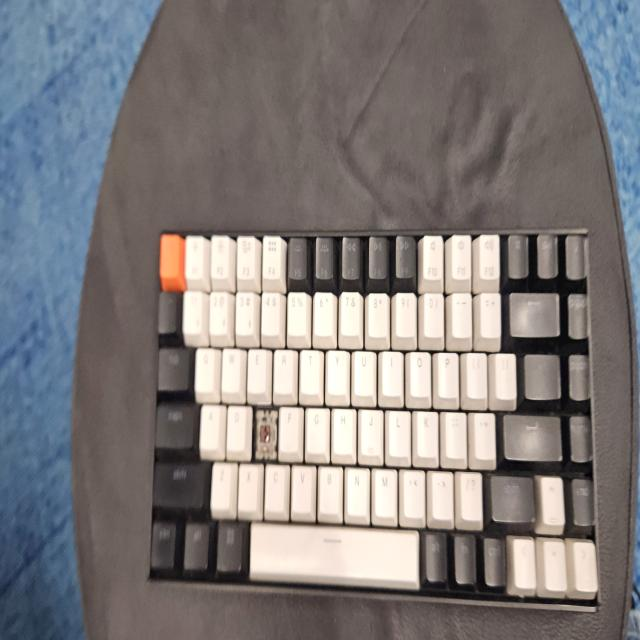C: (257, 408, 273, 461), (257, 402, 272, 454)
